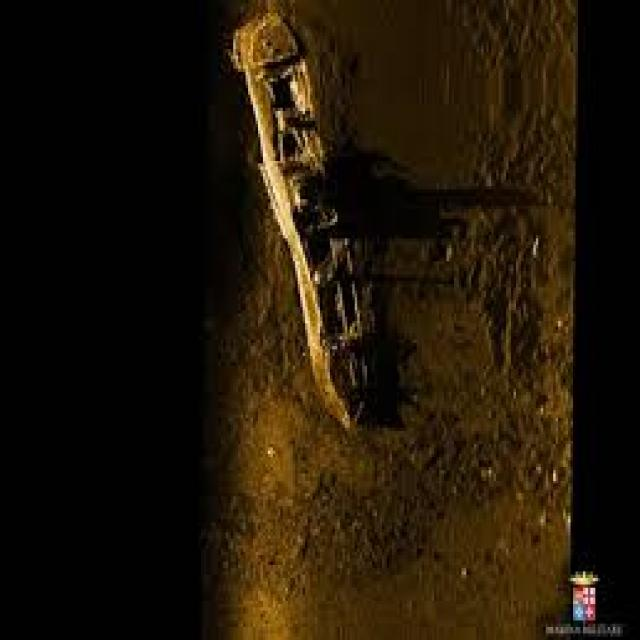ship: (228, 6, 382, 428)
